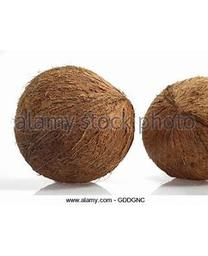coconut: (14, 64, 135, 183), (141, 76, 207, 181)
